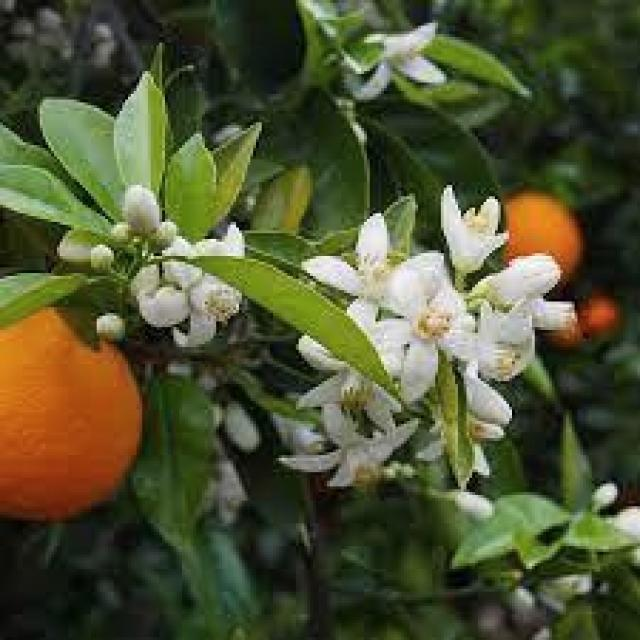Bunga: (301, 210, 441, 330), (369, 273, 486, 393), (145, 219, 250, 347), (284, 404, 424, 495), (296, 332, 407, 432), (492, 253, 580, 324), (441, 185, 504, 276), (452, 378, 518, 432), (122, 188, 160, 236), (94, 313, 125, 342), (153, 218, 180, 250), (91, 244, 114, 274)
Jeruk Sudah Matang: (0, 307, 139, 523)
